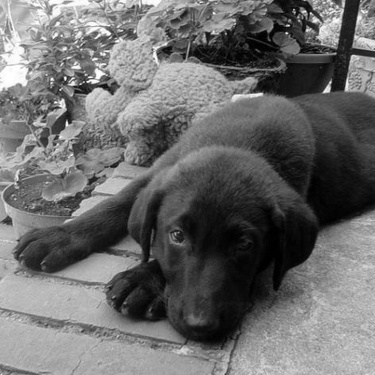dog: (4, 90, 373, 347)
